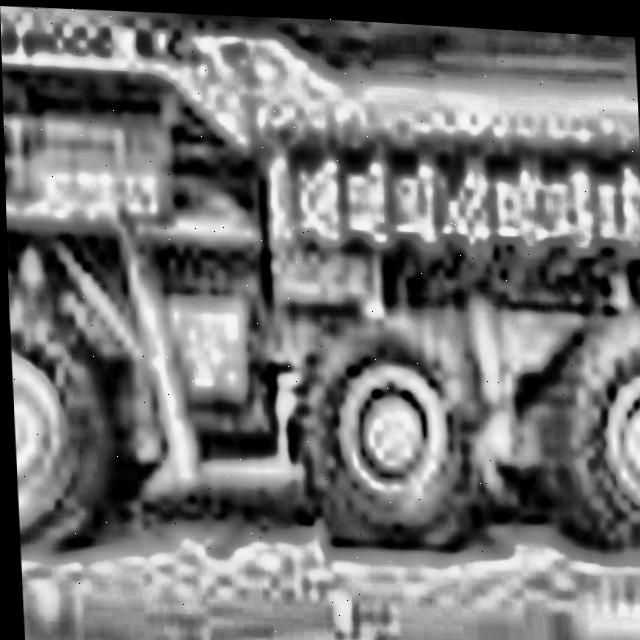dump_truck: (0, 0, 640, 578)
